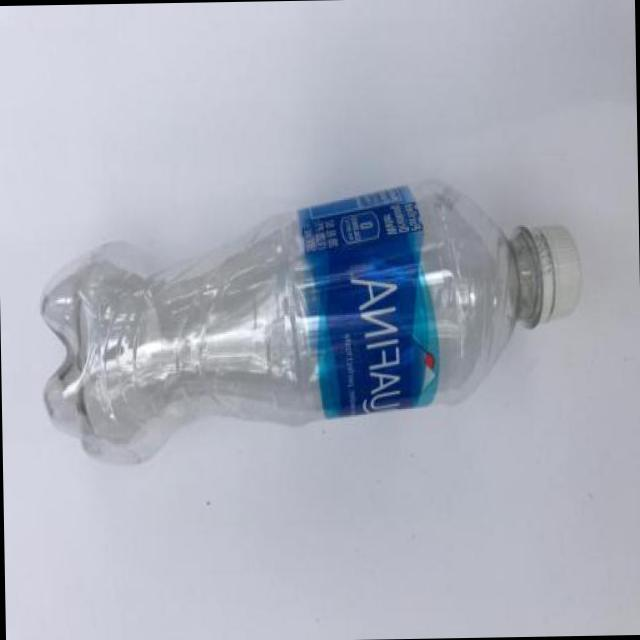plastic_bottle: (36, 180, 588, 468)
